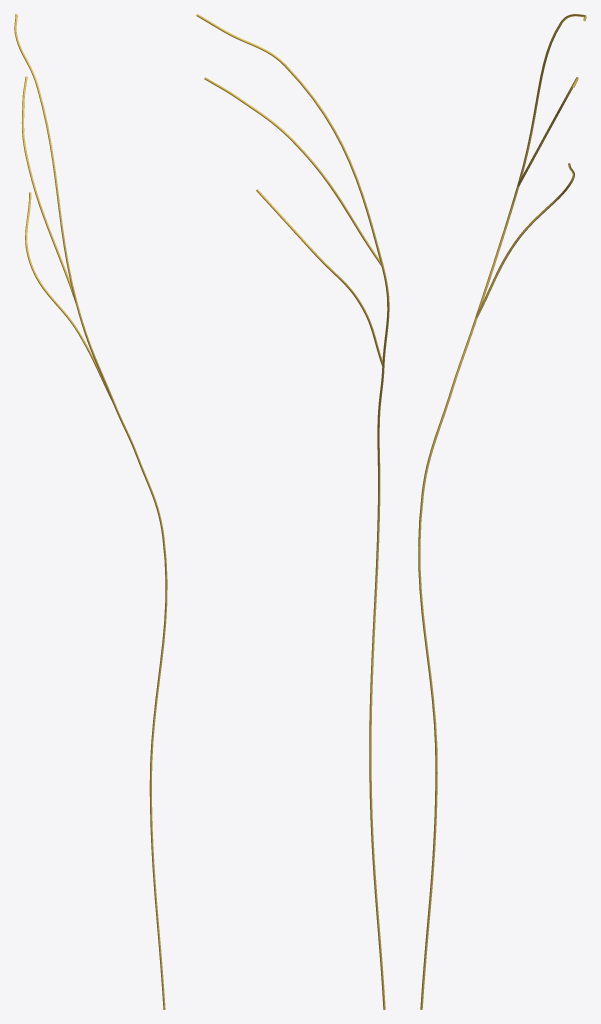
File: Femoral_nerve_right.glb
3 renders of one model, left to right at view 1: azimuth 90°, elevation 25°; view 2: azimuth 150°, elevation 25°; view 3: azimuth 270°, elevation 25°, orthographic. The views are drawn at different scales.
Parts seen in each view (by area): view 1: Femoral_nerve.r_BezierCurve.527; view 2: Femoral_nerve.r_BezierCurve.527; view 3: Femoral_nerve.r_BezierCurve.527.
Boxes of the visible parts, x1,y1,x2,y2 form: Femoral_nerve.r_BezierCurve.527: (14, 14, 167, 1009); Femoral_nerve.r_BezierCurve.527: (196, 14, 389, 1009); Femoral_nerve.r_BezierCurve.527: (418, 14, 586, 1009).
Bounding box in the file's own units: 0.0742 × 0.4698 × 0.0688.
